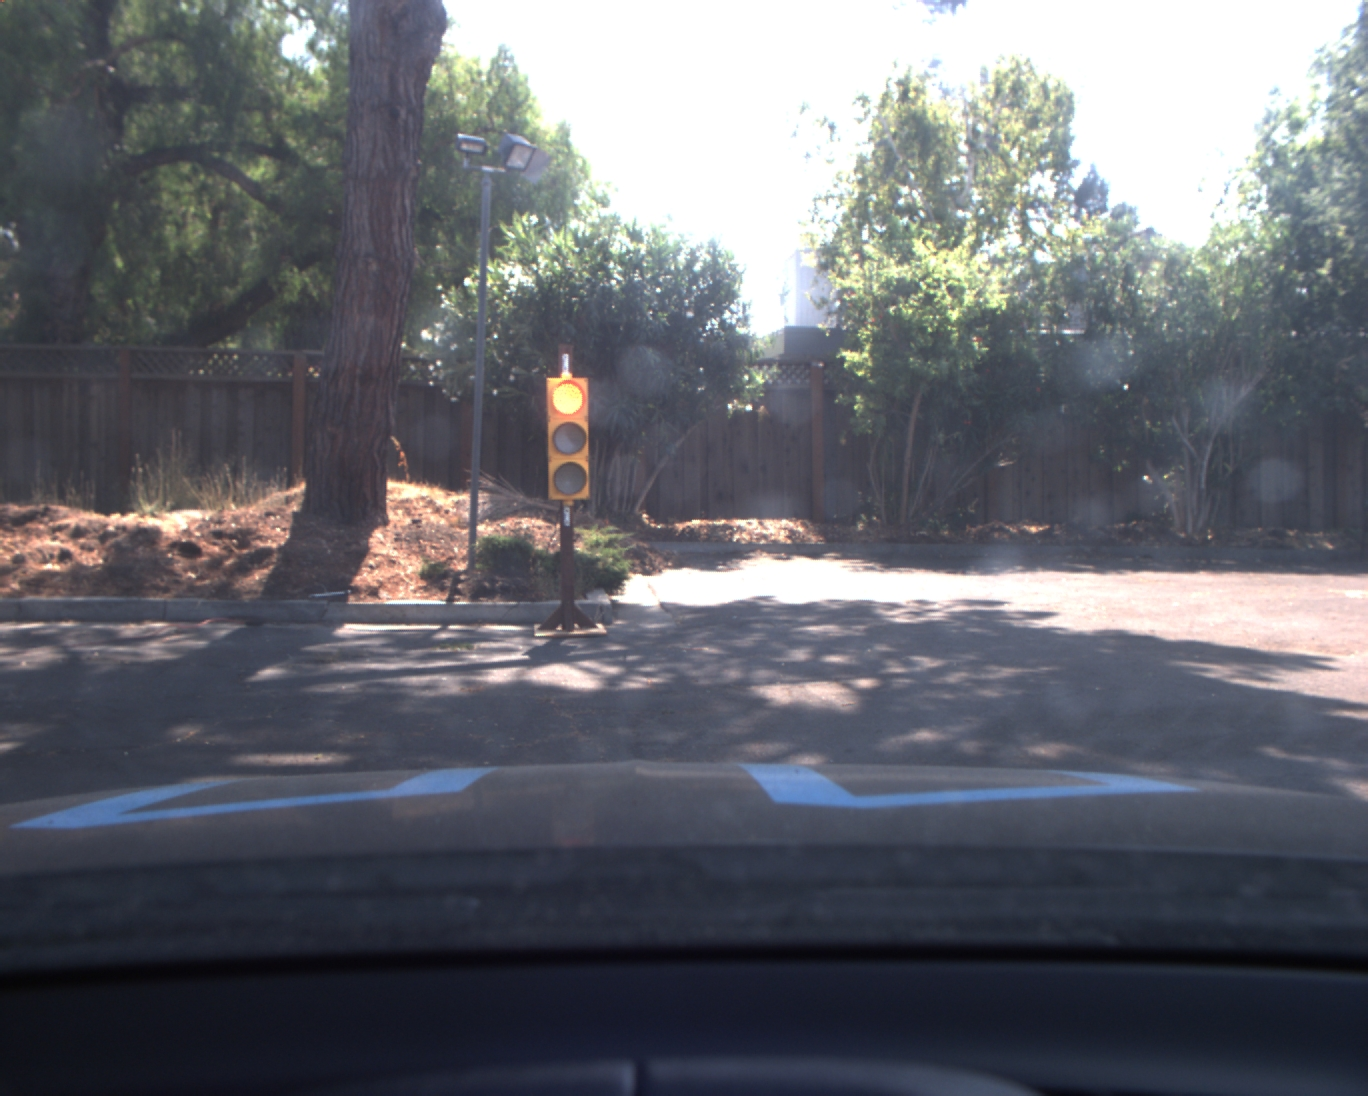red: (544, 379, 593, 505)
